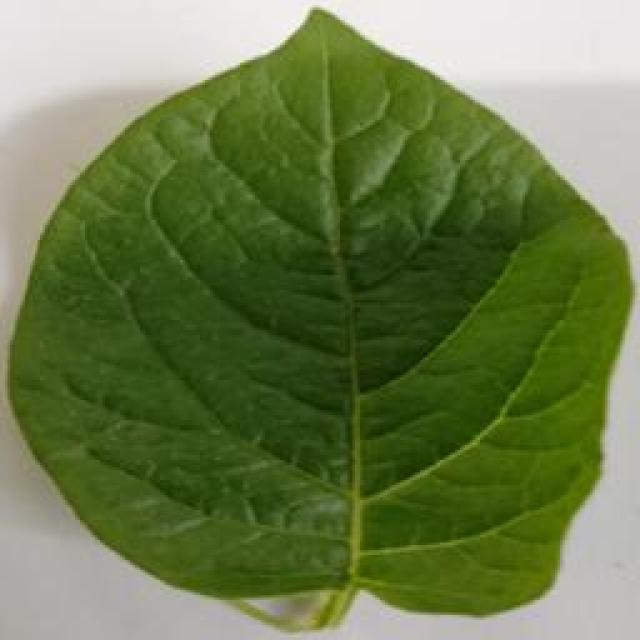Potato_Healthy: (9, 6, 630, 615)
